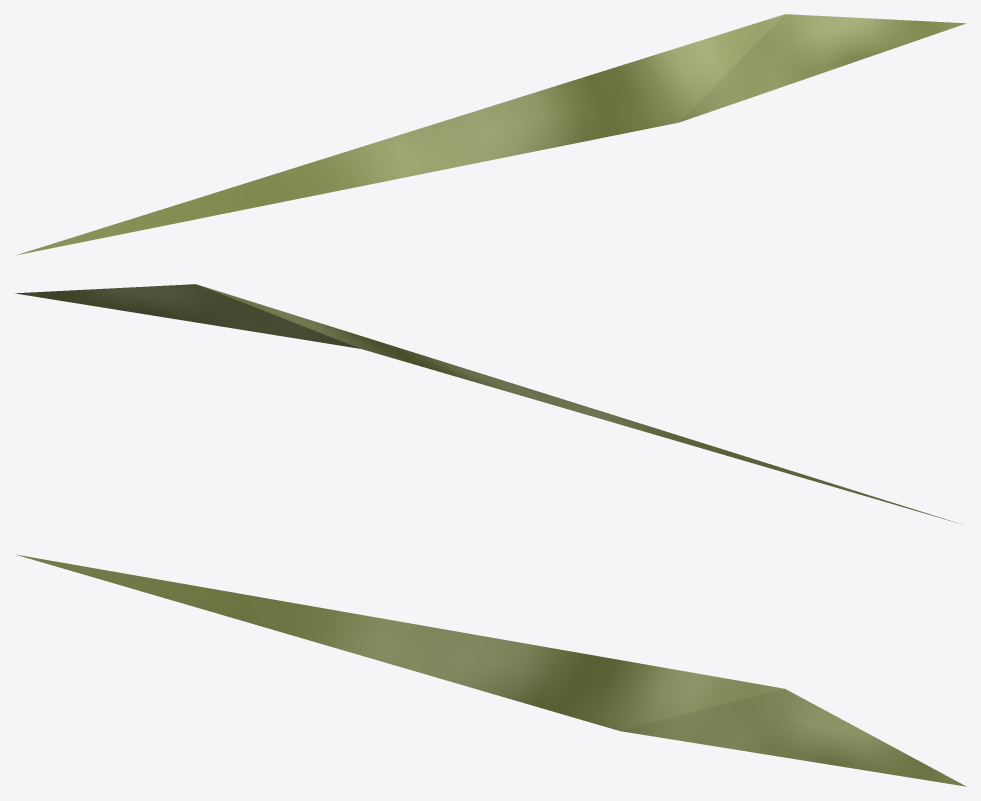
3 views of the same model, one above another, from view 1: azimuth 30°, elevation 25°; view 2: azimuth 150°, elevation 25°; view 3: azimuth 330°, elevation 25° (orthographic).
Bounding box in the file's own units: 0.3827 × 0.0206 × 0.0207.
Materials: 1 (1 with a texture image).
